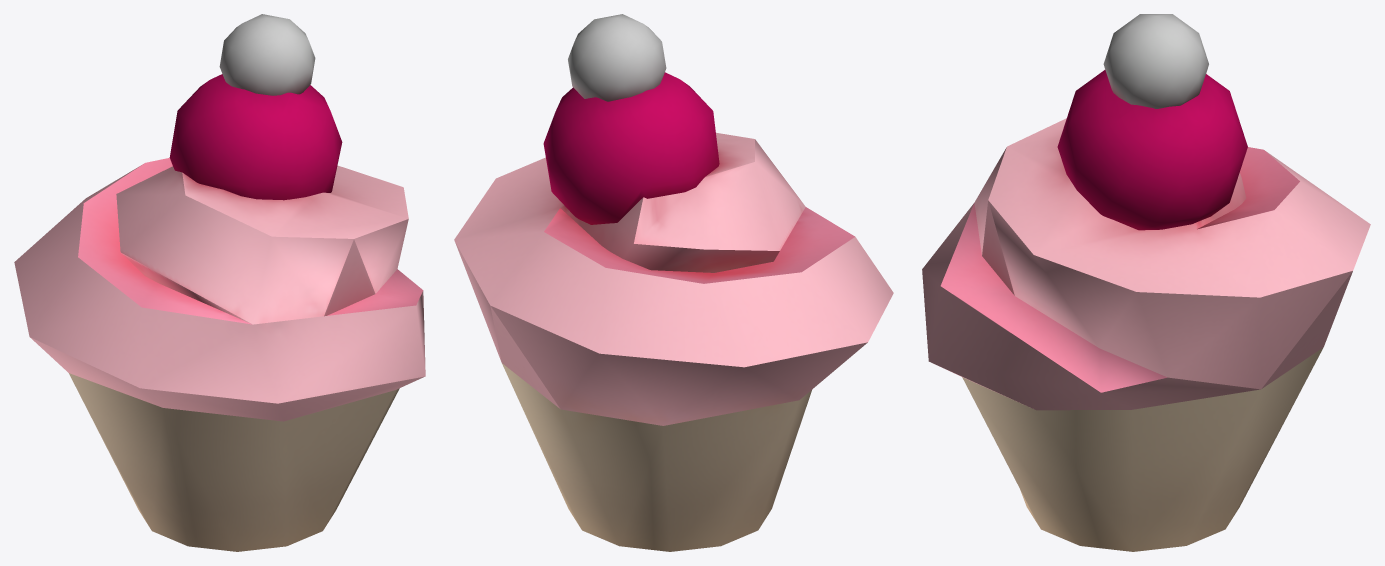
The model's file is cupcake2.FBX.
The picture shows the model from 3 angles, left to right: view 1: azimuth 30°, elevation 25°; view 2: azimuth 150°, elevation 25°; view 3: azimuth 270°, elevation 25°; orthographic projection. The views are drawn at different scales.
Parts seen in each view (by area): view 1: Helix001; view 2: Helix001; view 3: Helix001.
Boxes of the visible parts, x1,y1,x2,y2 form: Helix001: (14, 14, 425, 551); Helix001: (454, 14, 893, 551); Helix001: (922, 14, 1370, 551).
Size of the model in its own units: 61.67 by 75.35 by 59.85.
1 material, 1 textured.
